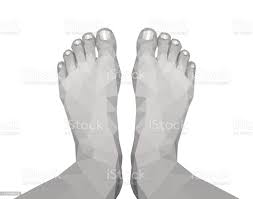Feet: (130, 24, 197, 185), (56, 26, 124, 182)
